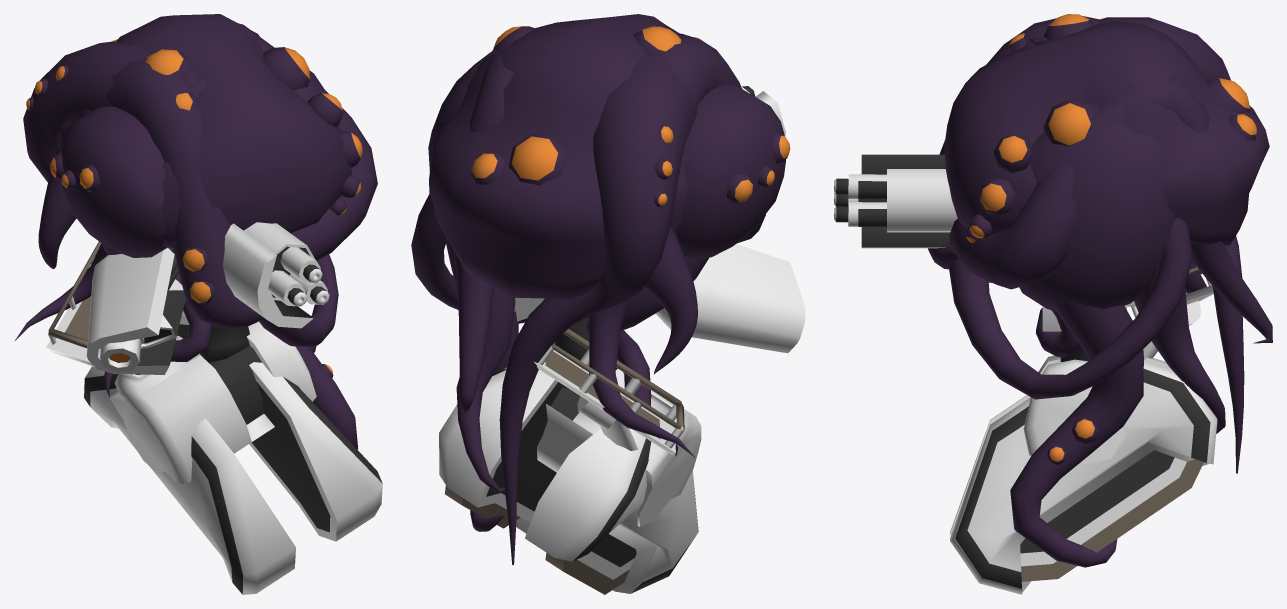
Rendered from Corrupted Placeholder.fbx.
The picture shows the model from 3 angles, left to right: view 1: azimuth 30°, elevation 25°; view 2: azimuth 150°, elevation 25°; view 3: azimuth 270°, elevation 25°; orthographic projection. The views are drawn at different scales.
Visible parts, largest first — view 1: Sphere.001, Robot1.001; view 2: Sphere.001, Robot1.001; view 3: Sphere.001, Robot1.001.
Boxes of the visible parts, x1,y1,x2,y2 form: Sphere.001: (15, 14, 377, 449); Robot1.001: (46, 222, 382, 594); Sphere.001: (411, 14, 790, 564); Robot1.001: (439, 86, 805, 594); Sphere.001: (928, 14, 1272, 567); Robot1.001: (834, 154, 1217, 594).
Bounding box in the file's own units: 1.17 × 2.03 × 1.48.
